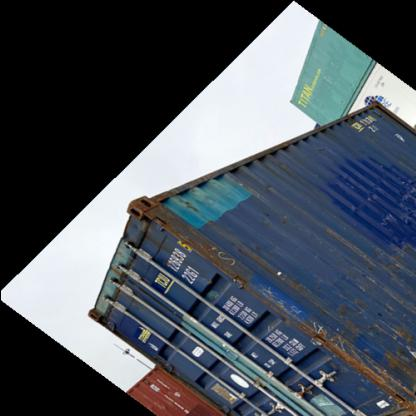Damage: (302, 315, 393, 394), (318, 216, 388, 272), (190, 242, 240, 274), (325, 176, 379, 203), (166, 192, 204, 216), (317, 132, 339, 152)
